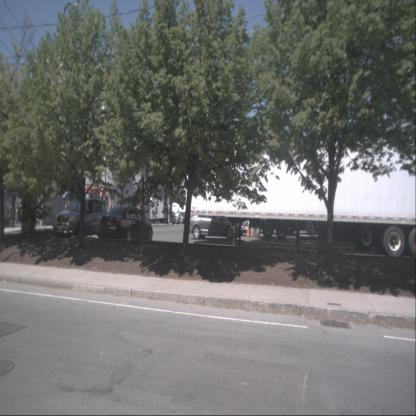movable_object-trafficcone: (250, 225, 254, 237), (247, 225, 250, 237)
vehicle-car: (53, 198, 109, 238), (98, 206, 154, 242), (186, 207, 235, 241), (172, 211, 184, 225)
